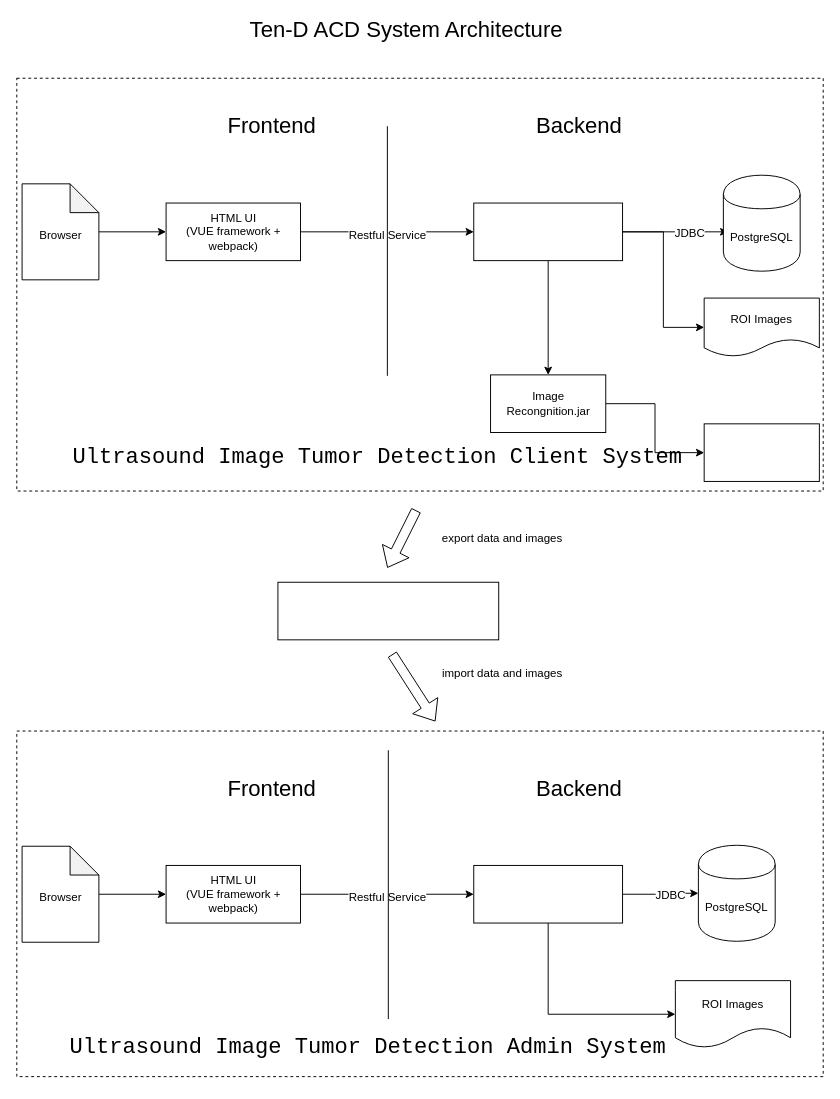
The diagram is 840 pixels wide and 1099 high, and some of its shapes have lost their labels. Each missing label, with the centre of its shape:
"com.tend.acd.backend.jar (Spring Boot 2.0)" belongs at pixel 548 231.
"com.tend.acd.exporter.jar" belongs at pixel 388 610.
"com.tend.acd.server.jar (Spring Boot 2.0)" belongs at pixel 548 893.
"Matlab runtime" belongs at pixel 761 452.
